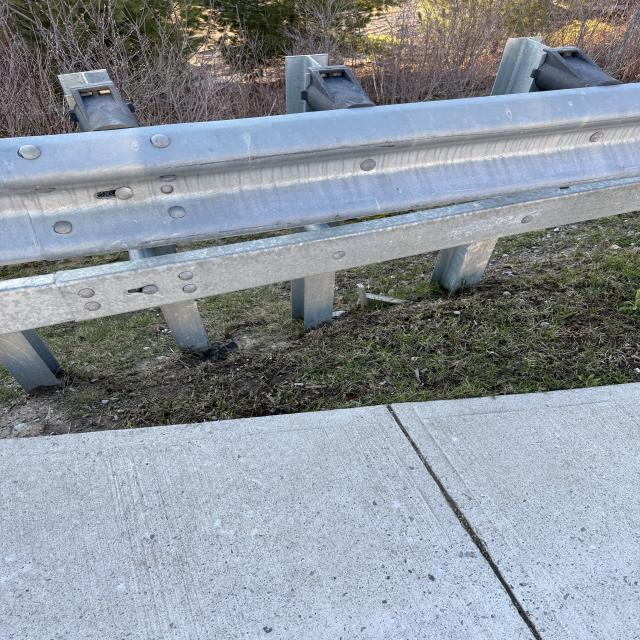Guard rail: (27, 78, 636, 272), (490, 41, 628, 93)
